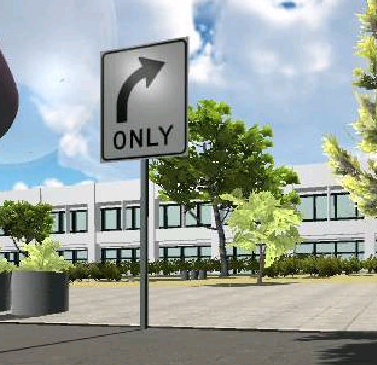arrow_right: (114, 56, 170, 123)
